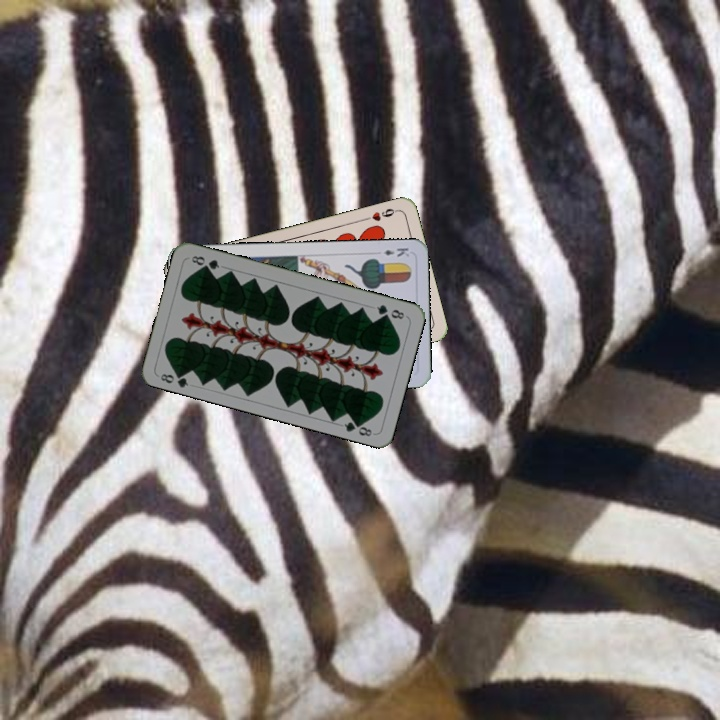EK: (380, 244, 412, 260)
G8: (156, 367, 191, 390), (372, 300, 407, 322)
H9: (360, 204, 400, 224)
